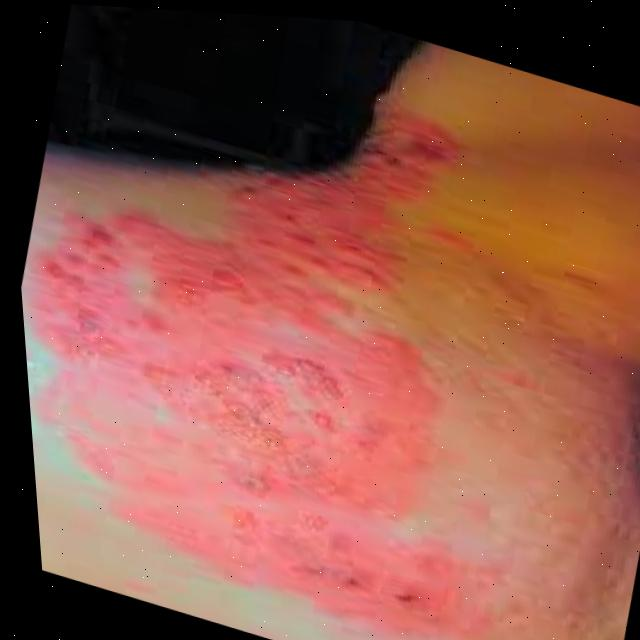Shingles: (2, 29, 596, 636)
